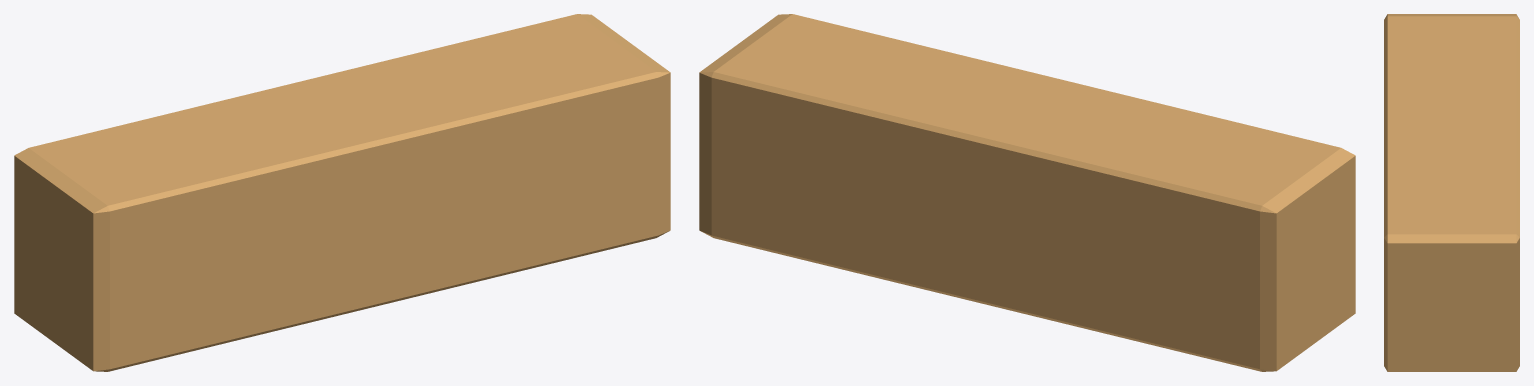
Rendered from wall_beech_4m.glb.
3 renders of one model, left to right at view 1: azimuth 30°, elevation 25°; view 2: azimuth 150°, elevation 25°; view 3: azimuth 270°, elevation 25°, orthographic. The views are drawn at different scales.
Parts seen in each view (by area): view 1: Block.006; view 2: Block.006; view 3: Block.006.
Part boxes in pixels (x1,y1,x2,y2): Block.006: (14, 14, 670, 371); Block.006: (699, 14, 1355, 371); Block.006: (1384, 14, 1519, 371).
Size of the model in its own units: 4 by 1.1 by 1.
